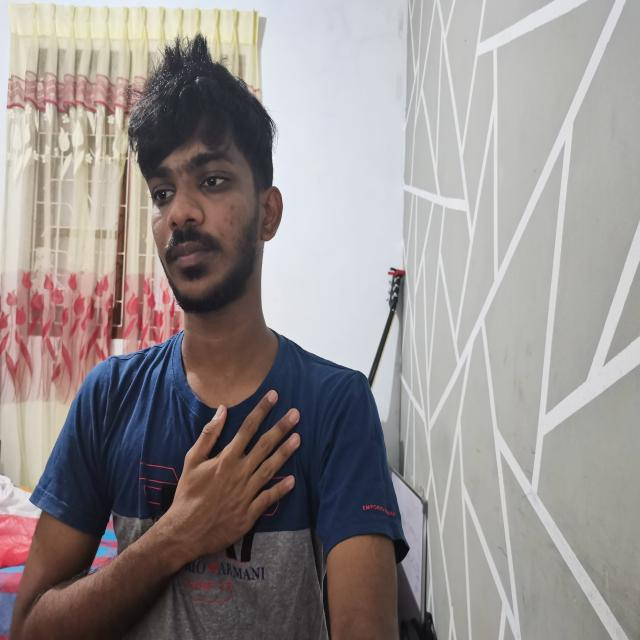Please: (0, 384, 302, 634)
